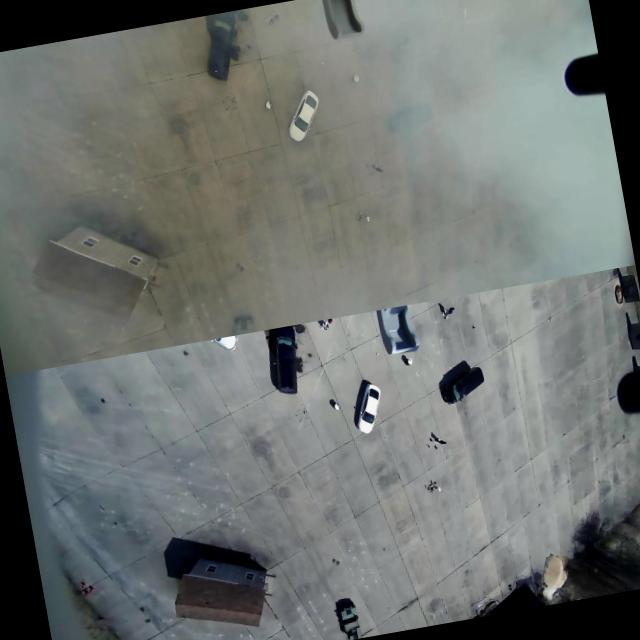car: (248, 321, 314, 412), (185, 12, 248, 96), (433, 355, 485, 405), (282, 88, 323, 142), (350, 381, 384, 434)
